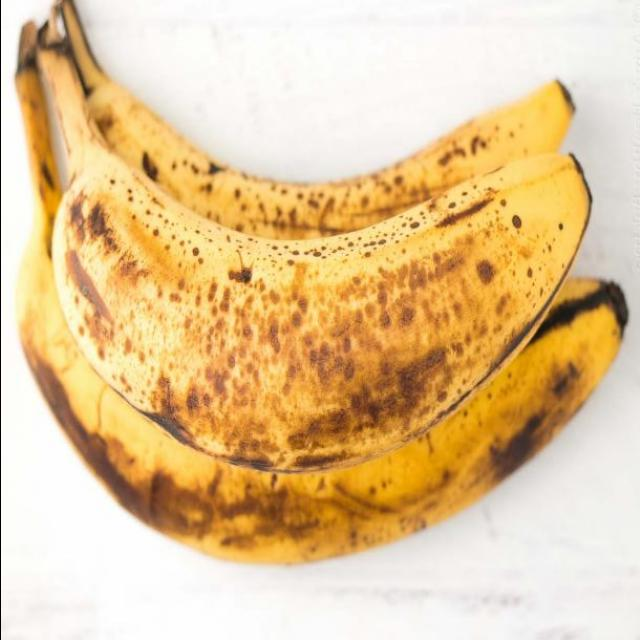banana: (25, 200, 622, 544), (60, 154, 614, 471), (80, 64, 574, 322)
